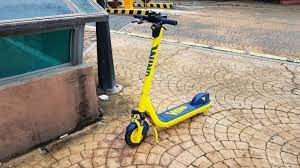kick_board: (125, 13, 212, 146)
kick_handler: (131, 14, 177, 30)
kick_neck: (138, 37, 161, 103)
kick_wheel: (126, 121, 149, 146), (192, 93, 213, 112)
